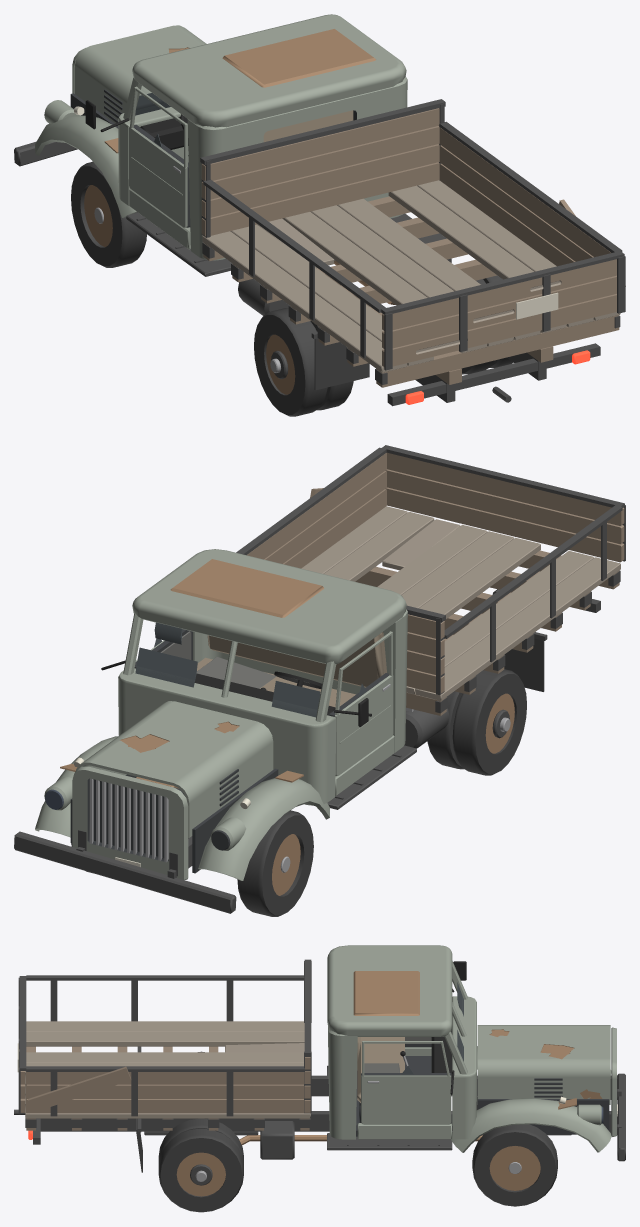
The model's file is wreck_lorry.glb.
3 renders of one model, top to bottom at view 1: azimuth 30°, elevation 25°; view 2: azimuth 150°, elevation 25°; view 3: azimuth 270°, elevation 25°, orthographic. The views are drawn at different scales.
Parts seen in each view (by area): view 1: body, tailboard, wheel_rl, bonnet, wheel_fl, door_fl; view 2: body, tailboard, bonnet, wheel_rl, wheel_fl, door_fl, door_fr; view 3: body, bonnet, wheel_rr, wheel_fr, door_fr, tailboard.
Boxes of the visible parts, x1,y1,x2,y2 form: body: [14, 14, 625, 406]; tailboard: [381, 251, 625, 370]; wheel_rl: [254, 308, 353, 416]; bonnet: [75, 25, 206, 123]; wheel_fl: [71, 161, 146, 267]; door_fl: [129, 86, 190, 227]; body: [14, 447, 622, 913]; tailboard: [382, 445, 625, 562]; bonnet: [76, 701, 273, 837]; wheel_rl: [427, 669, 526, 775]; wheel_fl: [237, 810, 313, 916]; door_fl: [329, 631, 393, 776]; door_fr: [134, 629, 192, 668]; body: [14, 945, 625, 1172]; bonnet: [477, 1025, 610, 1104]; wheel_rr: [158, 1118, 243, 1212]; wheel_fr: [472, 1124, 557, 1206]; door_fr: [361, 1041, 451, 1124]; tailboard: [17, 976, 26, 1114].
Bounding box in the file's own units: 2.58 × 2.19 × 6.43.
